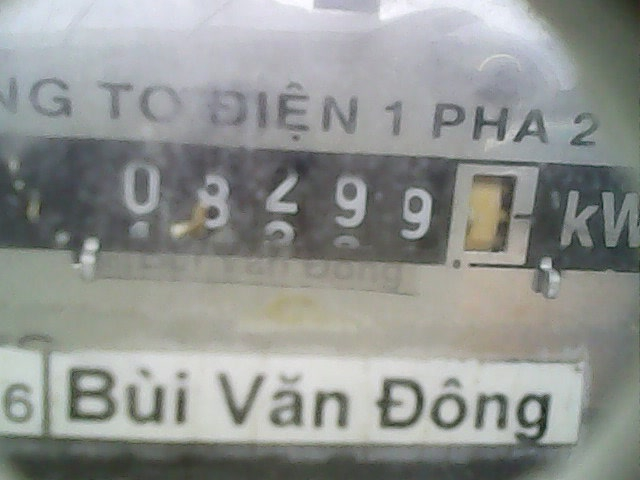phy_plate: (85, 137, 547, 288)
